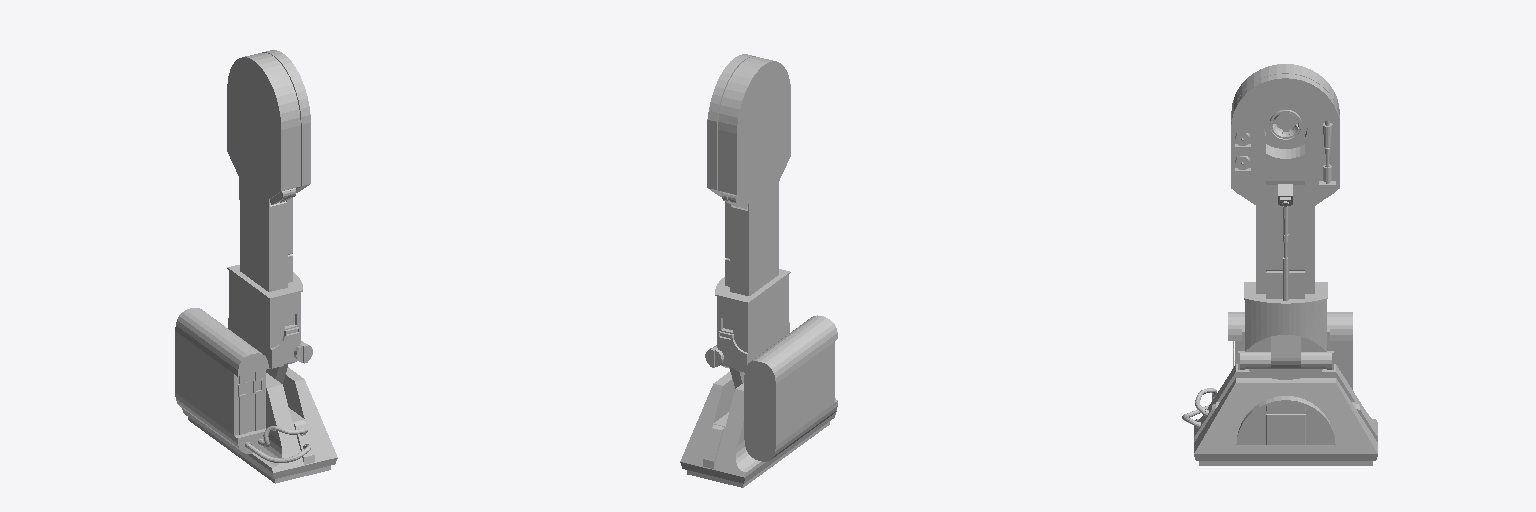
The model's file is pata derecha color.obj.
3 views of the same model, side by side, from view 1: azimuth 30°, elevation 25°; view 2: azimuth 150°, elevation 25°; view 3: azimuth 270°, elevation 25° (orthographic).
Parts seen in each view (by area): view 1: Pata_derecha; view 2: Pata_derecha; view 3: Pata_derecha.
Boxes of the visible parts, box(x1,y1,x2,y2) form: Pata_derecha: box(175, 50, 337, 483); Pata_derecha: box(680, 54, 837, 487); Pata_derecha: box(1182, 64, 1377, 465).
Size of the model in its own units: 1.9 by 7.9 by 3.65.